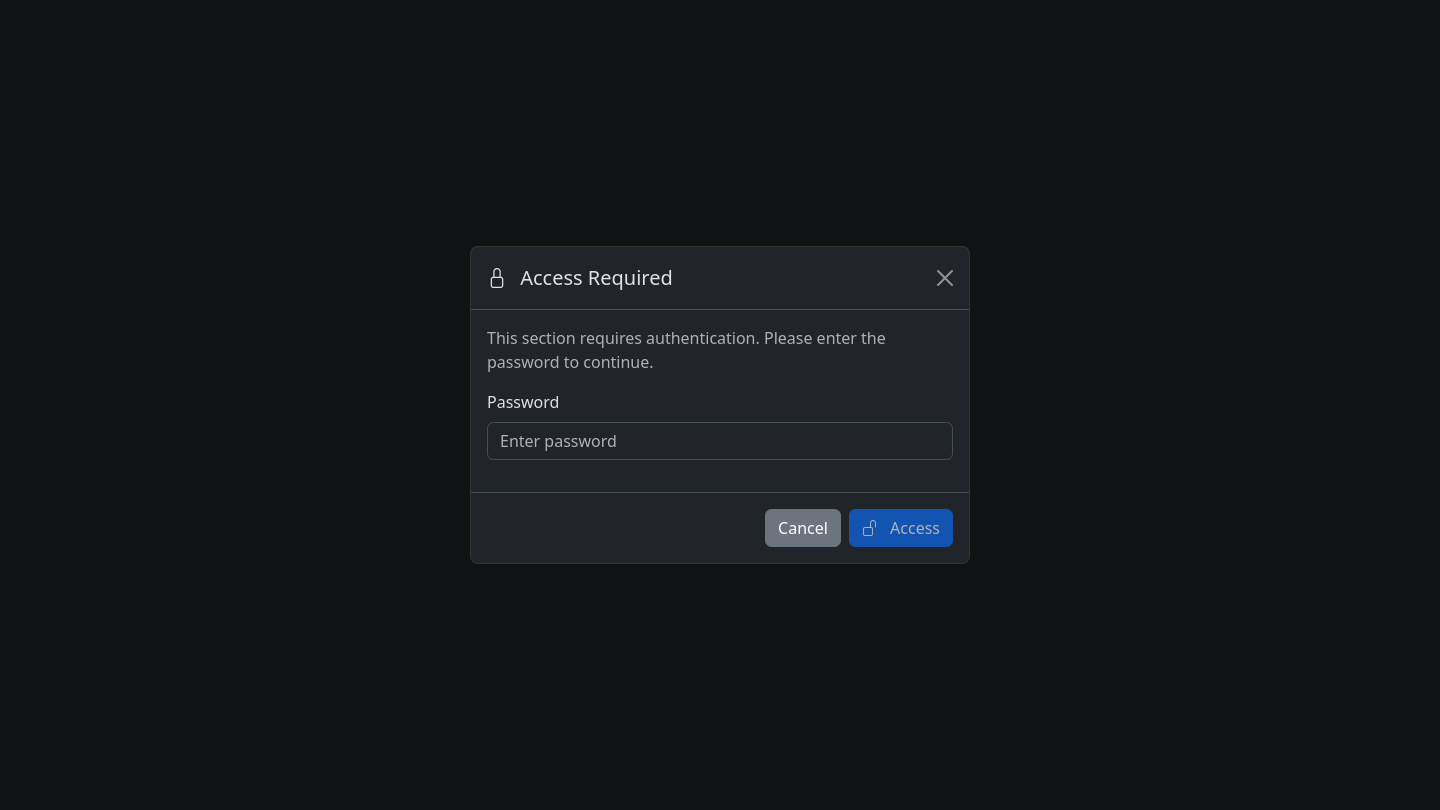
Scenario: AccessModal › AccessModal shows an error and refocuses input after a failed password attempt
Type "bad" into the password field with id "authPassword".
click(720, 441); type("bad")  # box 487,422 -> 953,460
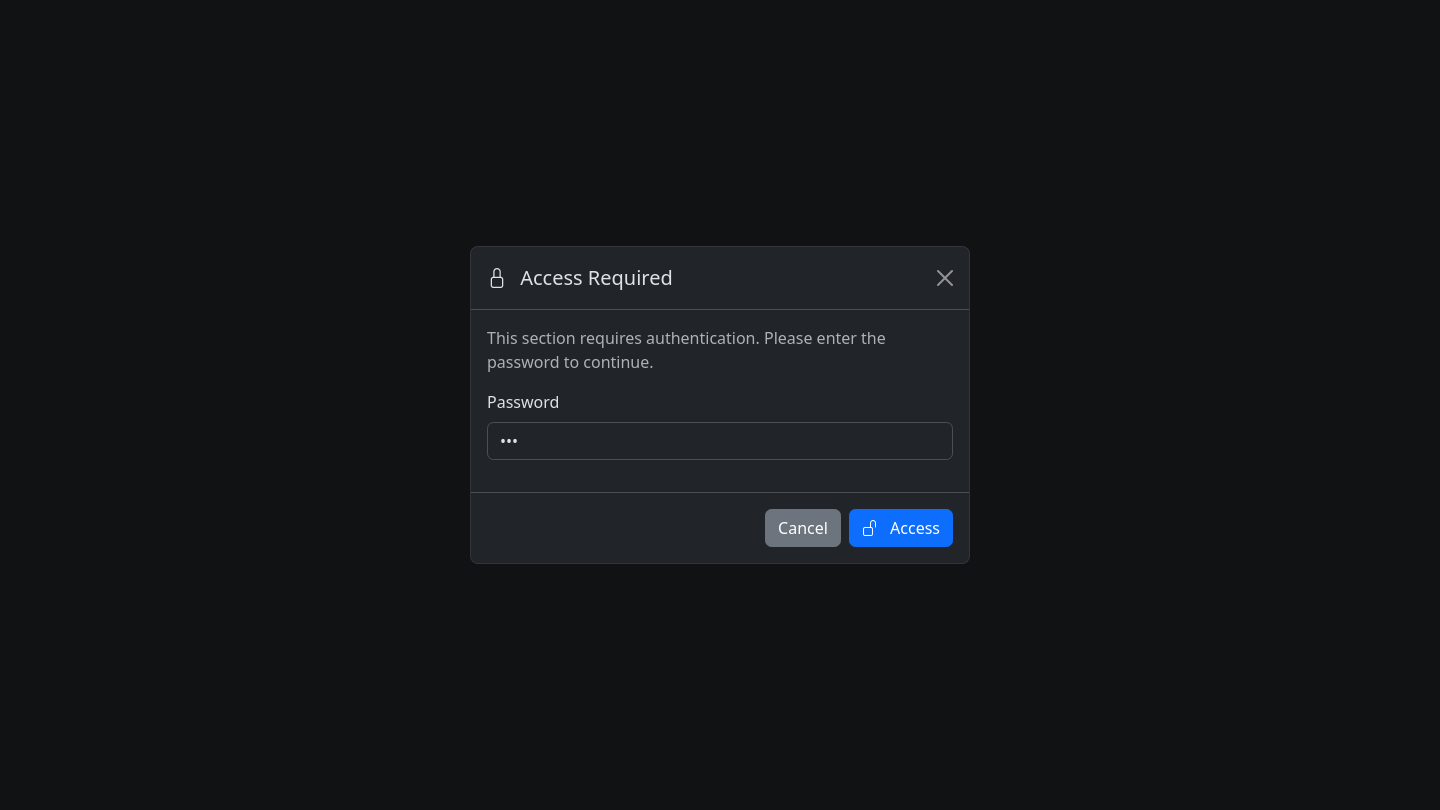
Click the button "Access".
click(901, 528)  # box 849,509 -> 953,547
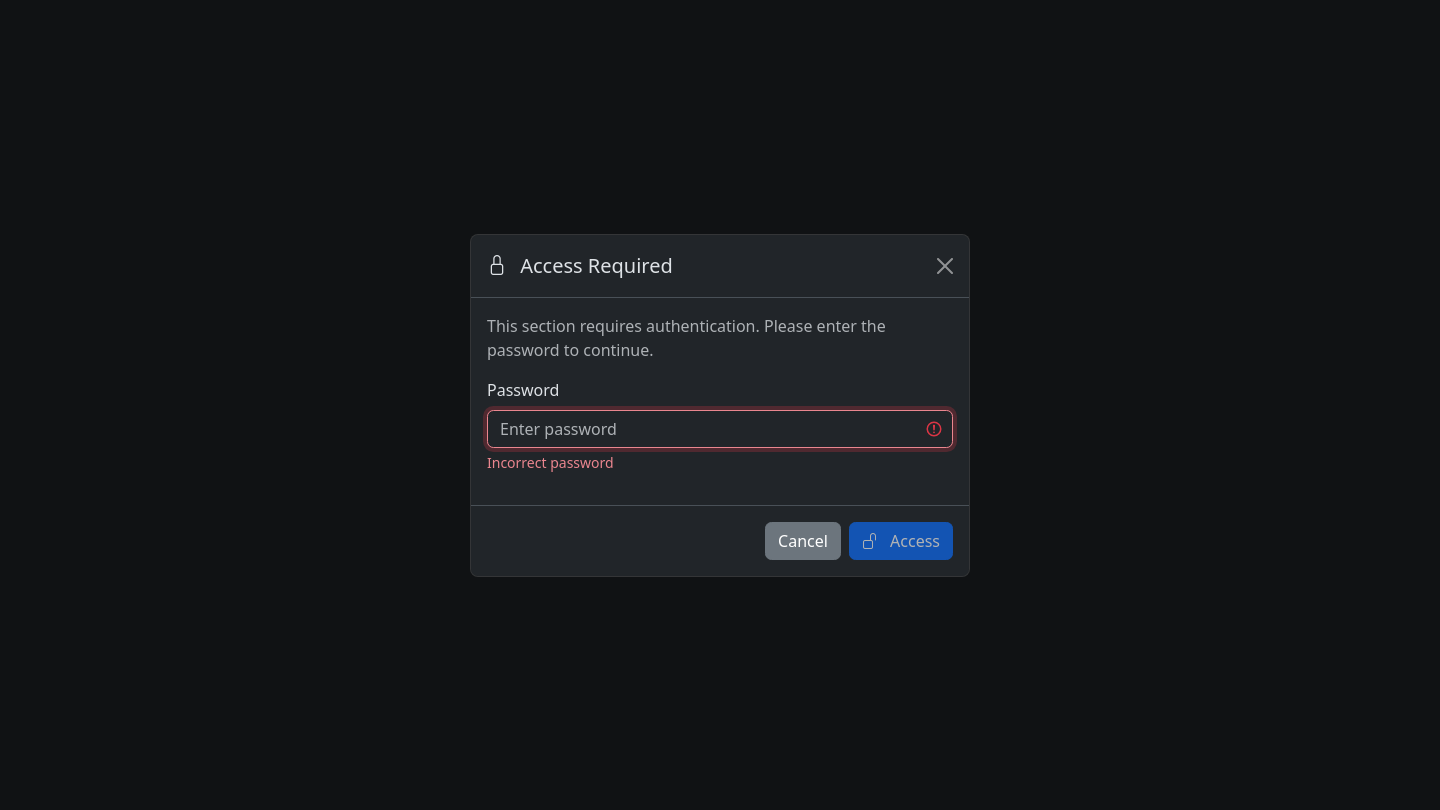
Expected: the text with class "invalid-feedback" reads "Incorrect password", 487,452 -> 614,472
